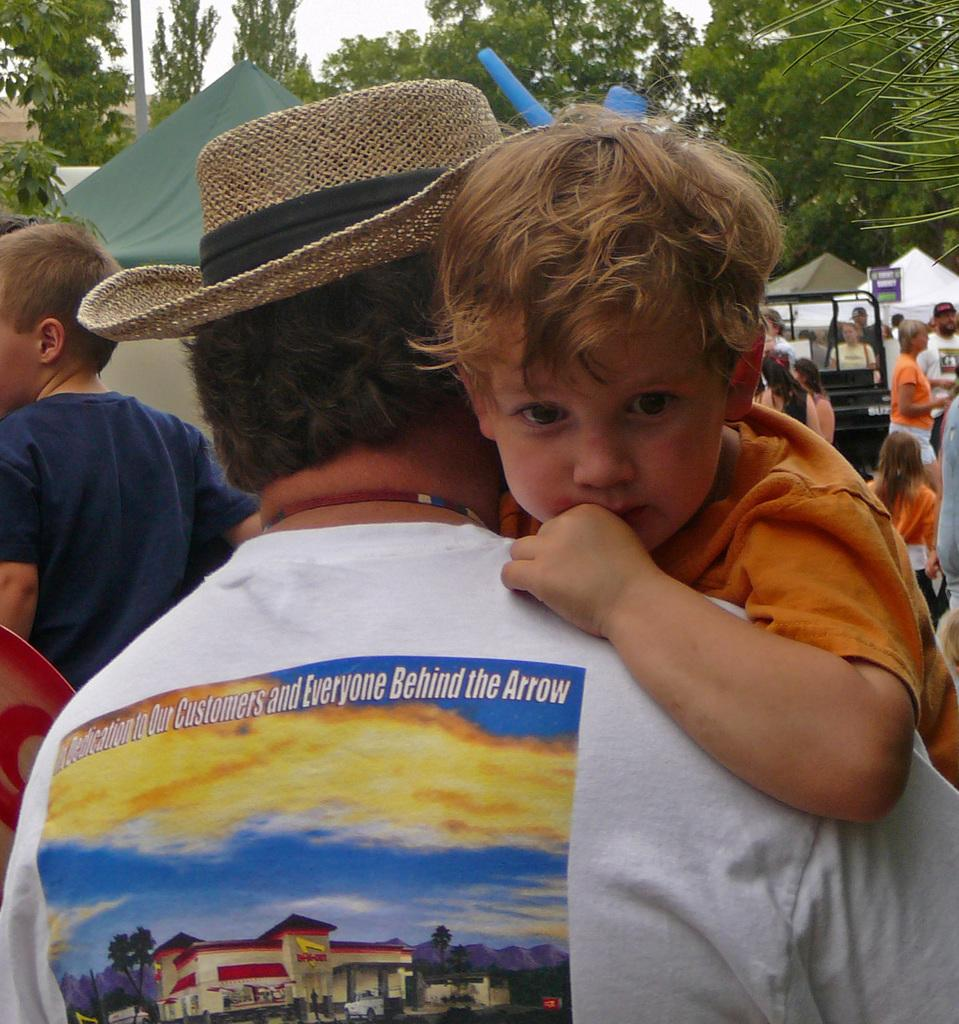Hat: (72, 76, 578, 338)
